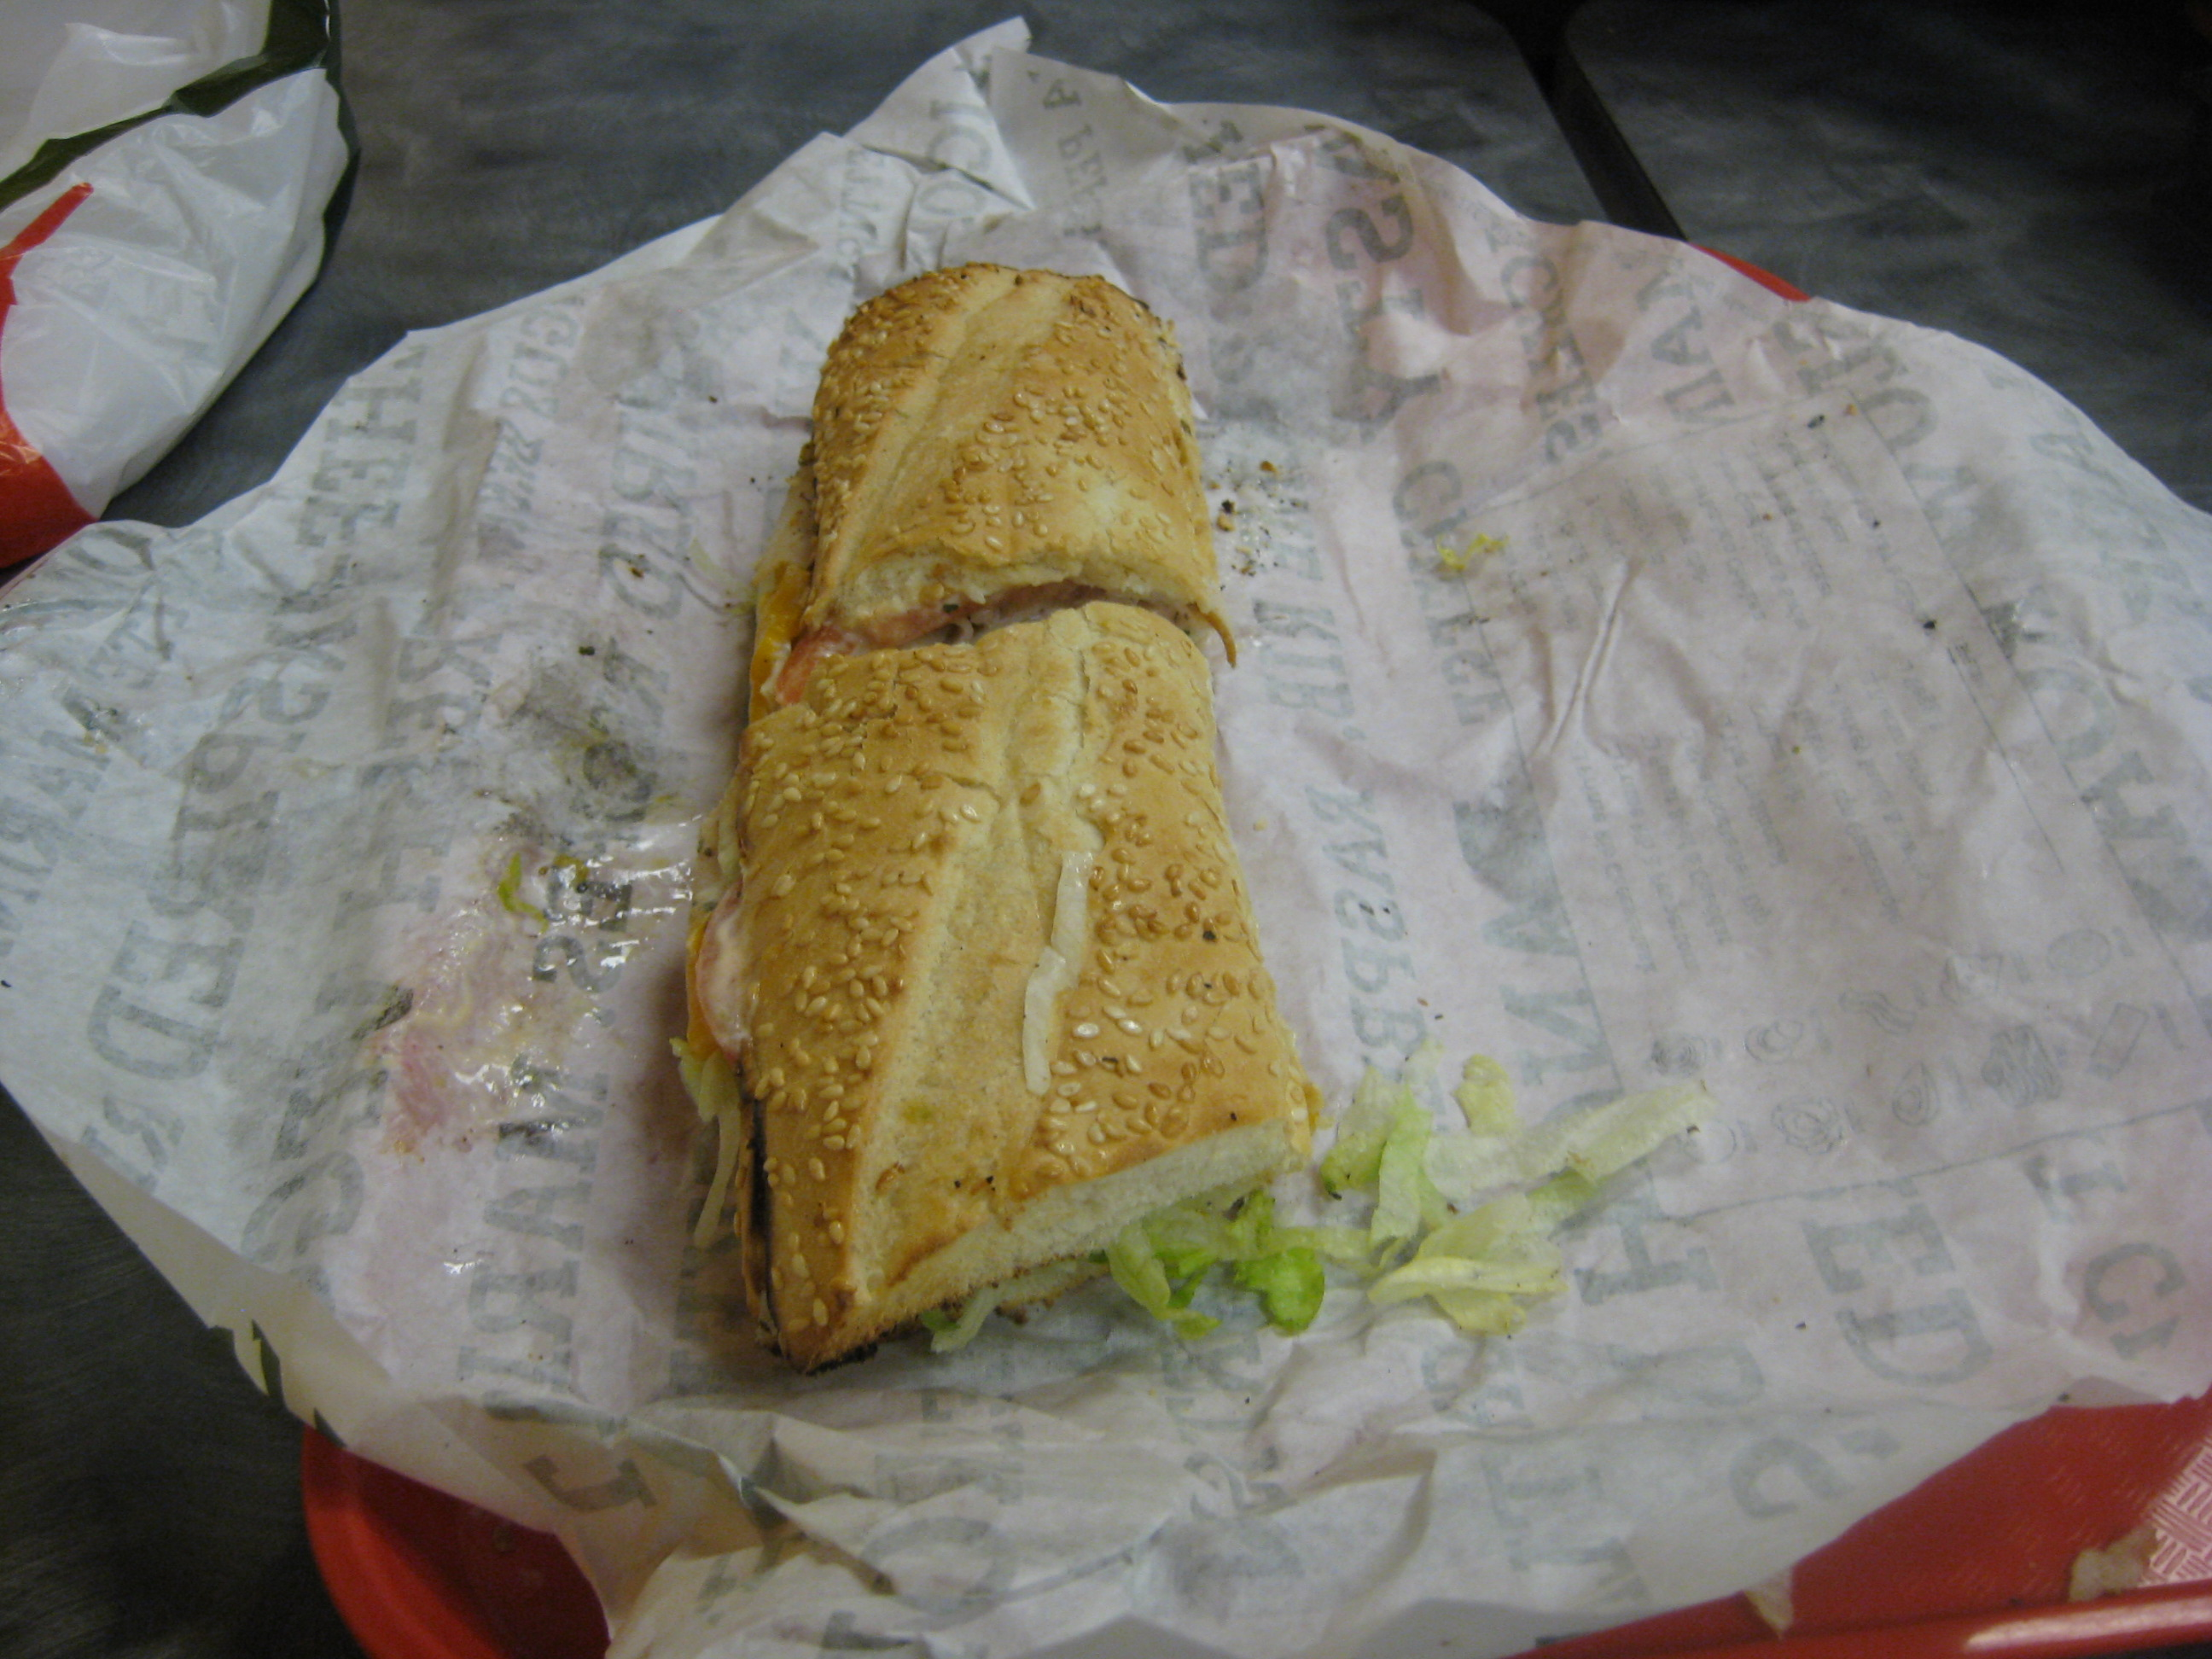sub: (686, 242, 1403, 1397)
